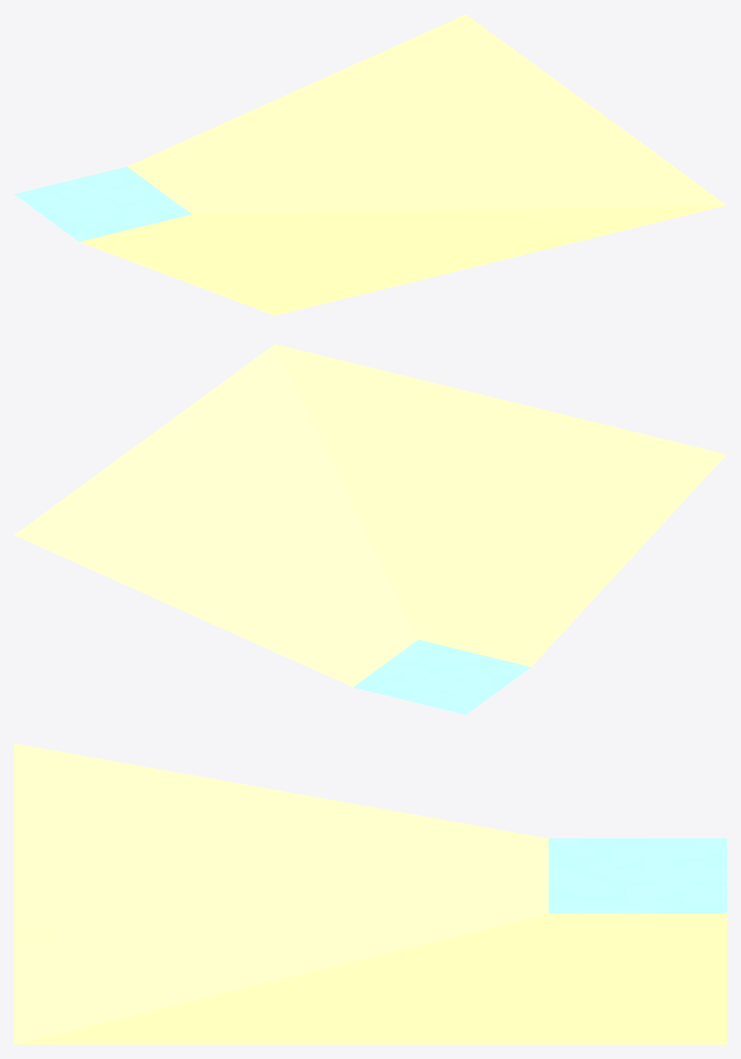
The model's file is beach_tile_1x1_1.glb.
3 views of the same model, one above another, from view 1: azimuth 30°, elevation 25°; view 2: azimuth 150°, elevation 25°; view 3: azimuth 270°, elevation 25° (orthographic). The views are drawn at different scales.
Visible parts, largest first — view 1: beach_tile_1x1_1(Clone); view 2: beach_tile_1x1_1(Clone); view 3: beach_tile_1x1_1(Clone).
Part boxes in pixels (bbox=[...]): beach_tile_1x1_1(Clone): bbox=[14, 14, 726, 315]; beach_tile_1x1_1(Clone): bbox=[14, 344, 726, 714]; beach_tile_1x1_1(Clone): bbox=[14, 743, 726, 1044].
Bounding box in the file's own units: 8 × 1.18 × 8.
Materials: 1 (1 with a texture image).
